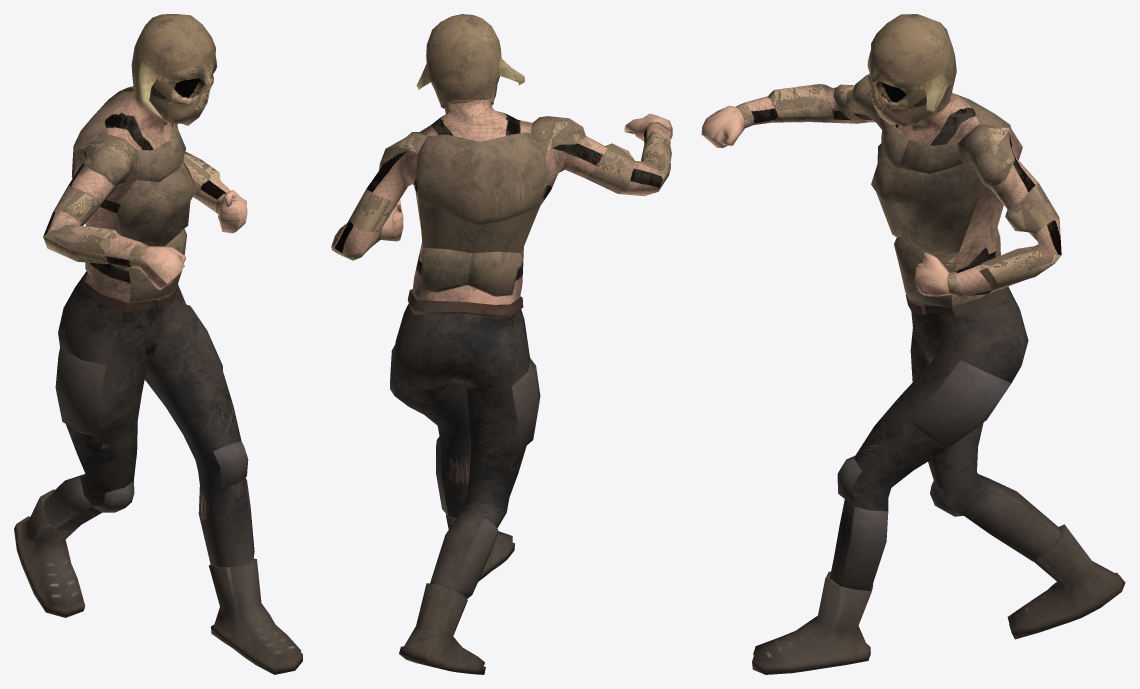
The model's file is Anim_ataque_d1_npc1.0020.obj.
The picture shows the model from 3 angles, left to right: view 1: azimuth 30°, elevation 25°; view 2: azimuth 150°, elevation 25°; view 3: azimuth 270°, elevation 25°; orthographic projection. The views are drawn at different scales.
Visible parts, largest first — view 1: NPC2; view 2: NPC2; view 3: NPC2.
Boxes of the visible parts, left/top/right/bottom form: NPC2: left=14, top=14, right=302, bottom=674; NPC2: left=331, top=14, right=672, bottom=674; NPC2: left=701, top=14, right=1125, bottom=674.
Size of the model in its own units: 3.86 by 9.1 by 5.44.
